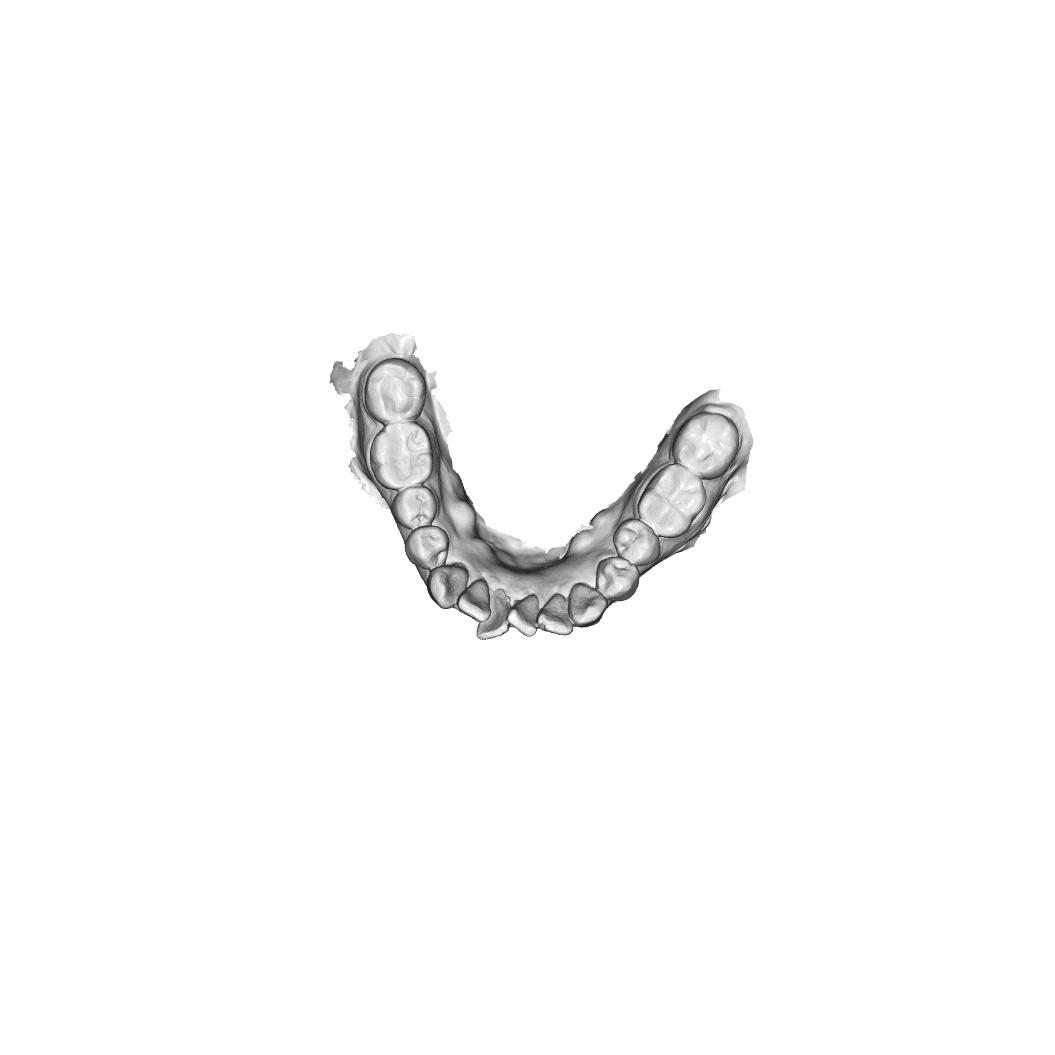canine: (425, 563, 469, 611), (568, 581, 608, 629)
incisor: (476, 588, 510, 641), (536, 592, 574, 637), (456, 576, 492, 623), (506, 593, 540, 638)
molar: (636, 463, 707, 539), (671, 411, 742, 480), (369, 421, 435, 492), (363, 356, 427, 425)
premolar: (611, 517, 661, 568), (389, 485, 439, 531), (595, 555, 640, 603), (404, 525, 449, 571)
